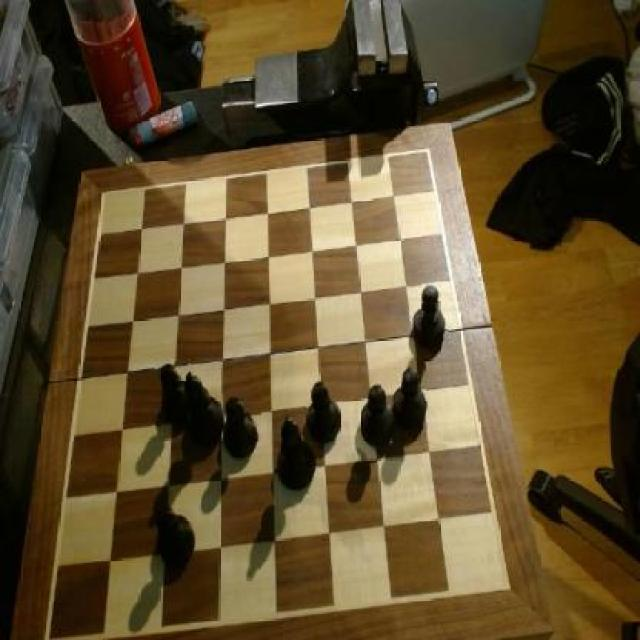bishop: (182, 369, 226, 451), (275, 416, 318, 494)
black-knight: (151, 497, 199, 571), (409, 283, 448, 355), (220, 395, 261, 461), (157, 362, 193, 430), (305, 380, 342, 446), (391, 368, 427, 432), (361, 383, 394, 450)
